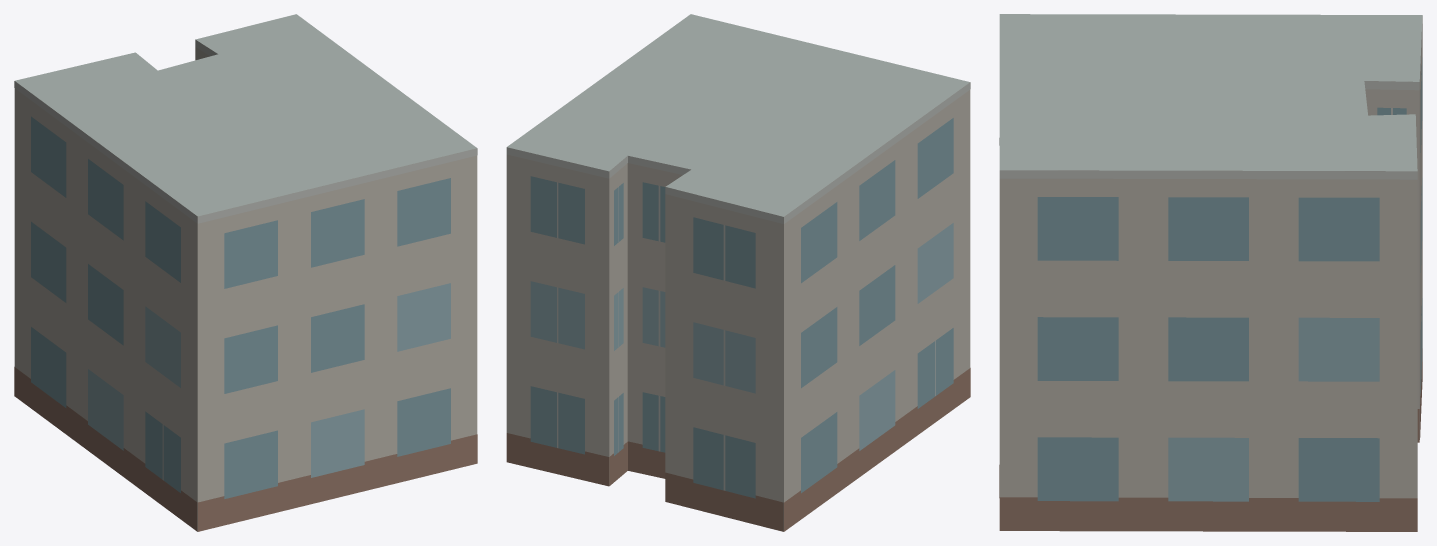
Rendered from survey-upis-32975538.glb.
3 views of the same model, side by side, from view 1: azimuth 30°, elevation 25°; view 2: azimuth 150°, elevation 25°; view 3: azimuth 270°, elevation 25° (orthographic). The views are drawn at different scales.
Visible parts, largest first — view 1: survey-upis-32975538.tmp; view 2: survey-upis-32975538.tmp; view 3: survey-upis-32975538.tmp.
Part boxes in pixels (x1=…): survey-upis-32975538.tmp: x1=14, y1=14, x2=477, y2=531; survey-upis-32975538.tmp: x1=506, y1=14, x2=970, y2=531; survey-upis-32975538.tmp: x1=999, y1=14, x2=1422, y2=531.
Size of the model in its own units: 9.87 by 10.55 by 11.23.
